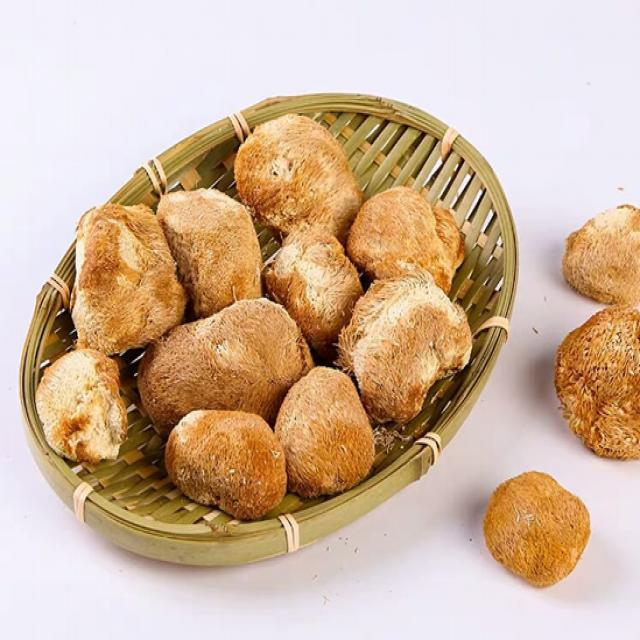Hericium erinaceus: (342, 268, 473, 422), (140, 297, 307, 410), (75, 202, 179, 348), (237, 115, 353, 234), (169, 410, 285, 516), (560, 307, 640, 457), (165, 188, 262, 311), (276, 369, 374, 489), (352, 185, 463, 289), (490, 470, 587, 586), (37, 351, 124, 460), (274, 228, 357, 338), (564, 205, 640, 303)
